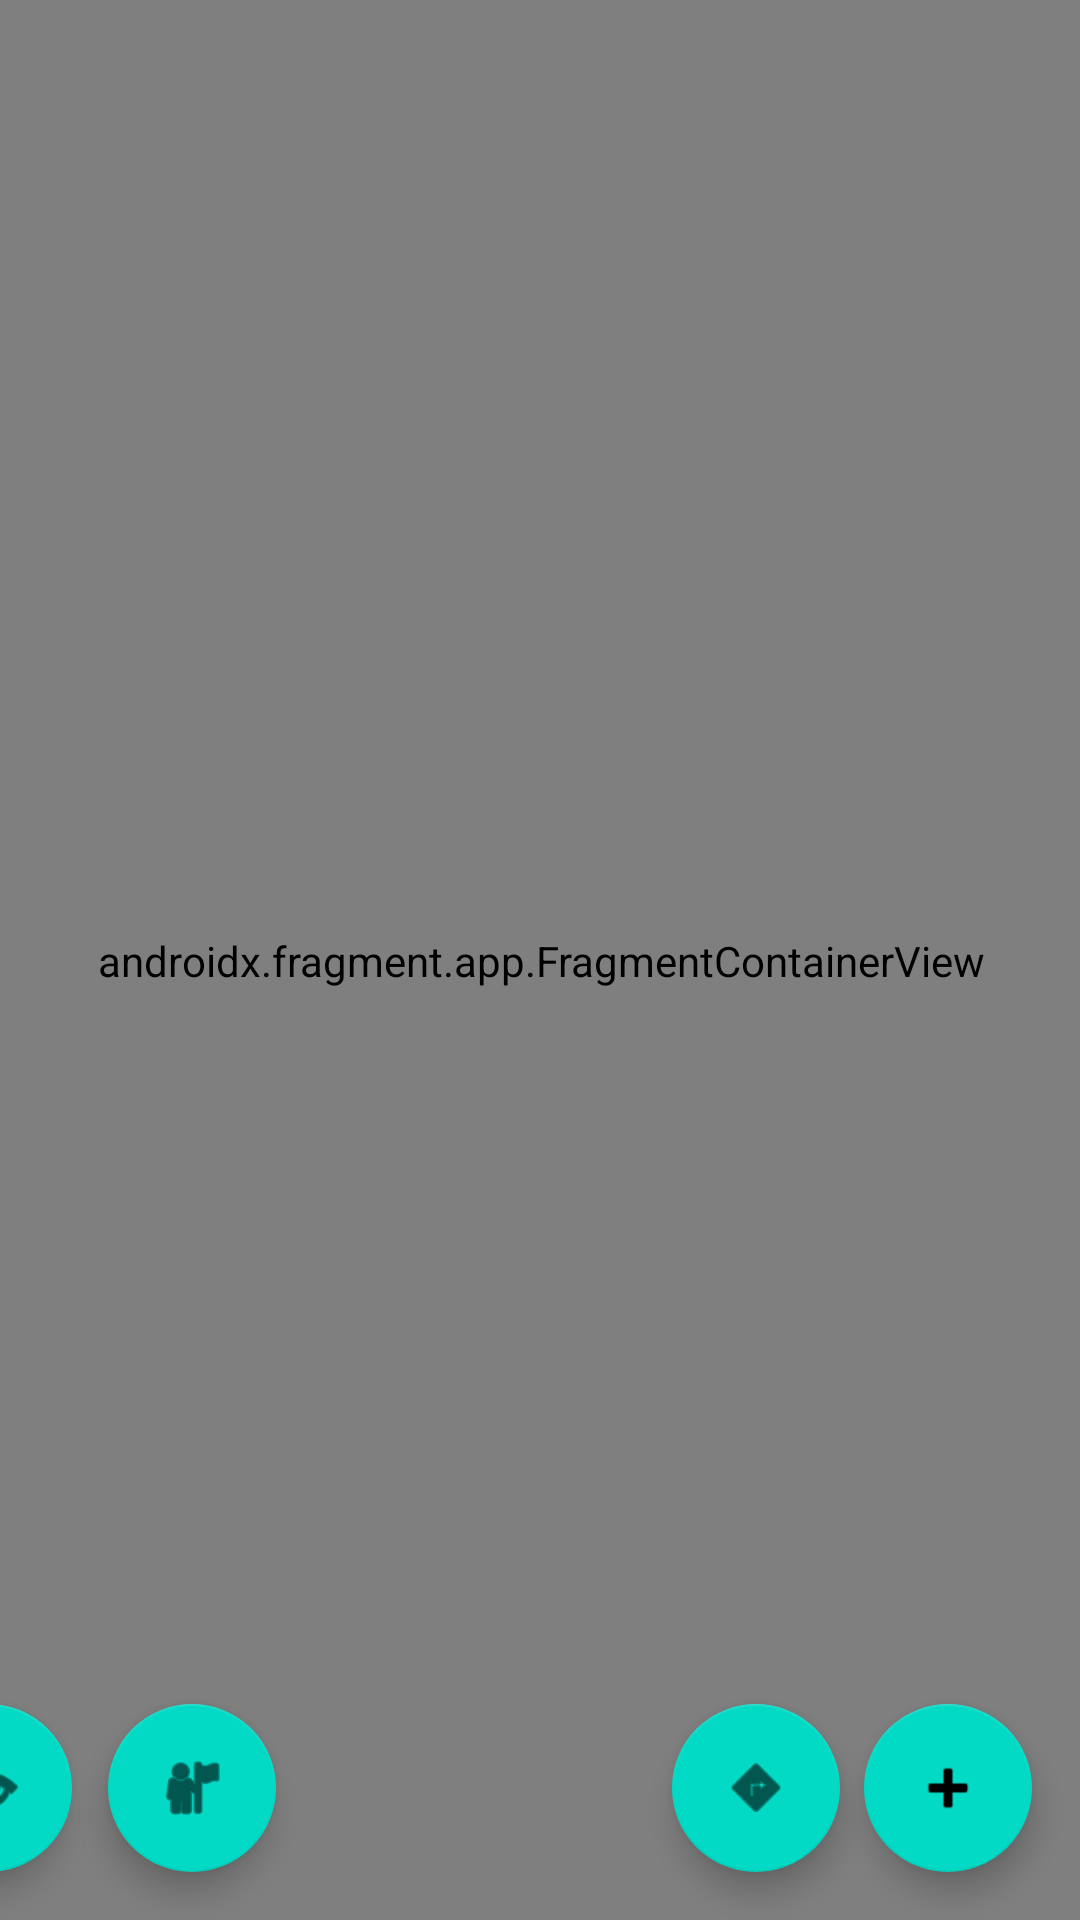

Icon bounding boxes for this 1080 × 1920 phone screenshot, format (x1, y1, x2, y2):
add: (864, 1704, 1032, 1872)
directions: (672, 1704, 840, 1872)
myplaces: (108, 1704, 276, 1872)
